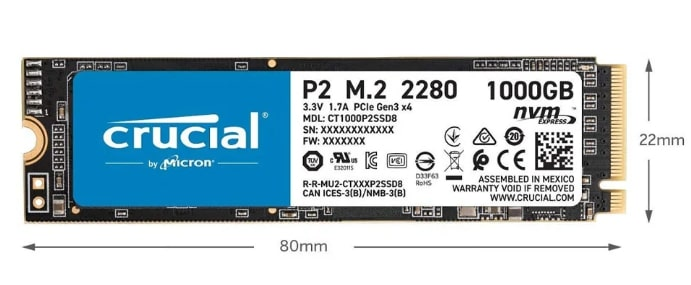ssd2280: (15, 53, 631, 227)
